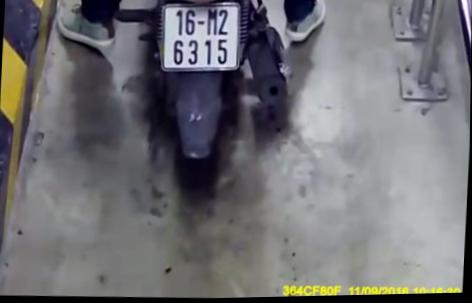LP: (156, 0, 244, 77)
